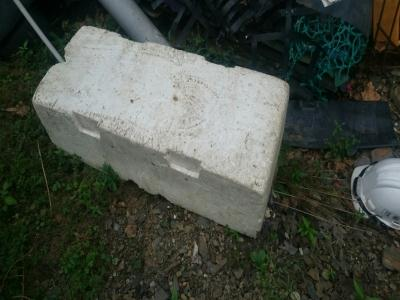styrofoam: (31, 23, 291, 242)
